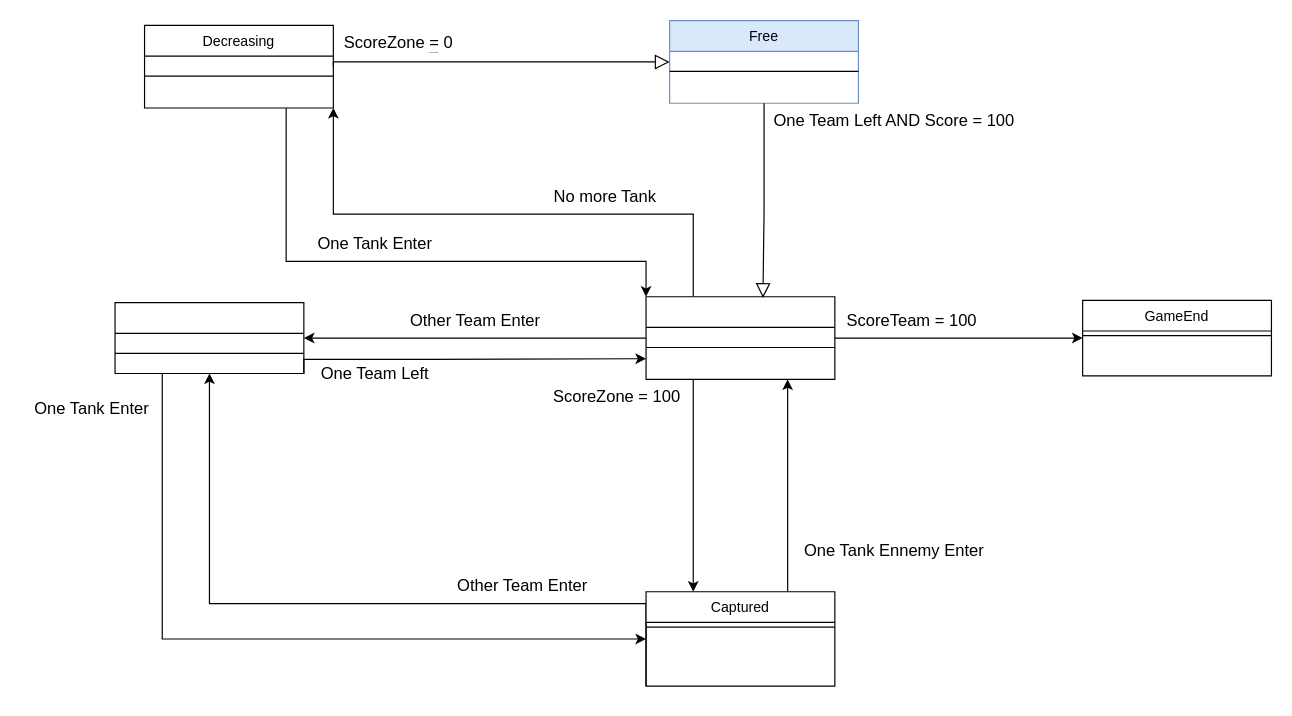
Image size: 1292x716. Some labels were removed from this diagram. Each missing label, with the box of its shape:
OnCapture: (645, 296, 835, 379)
OnConflict: (114, 301, 304, 373)
